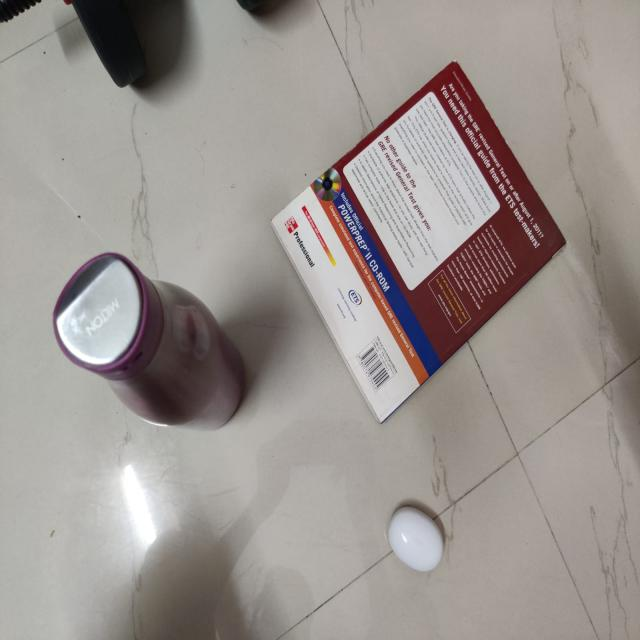metal: (33, 226, 267, 464)
paper: (277, 34, 577, 433)
plastic: (373, 476, 455, 600)
